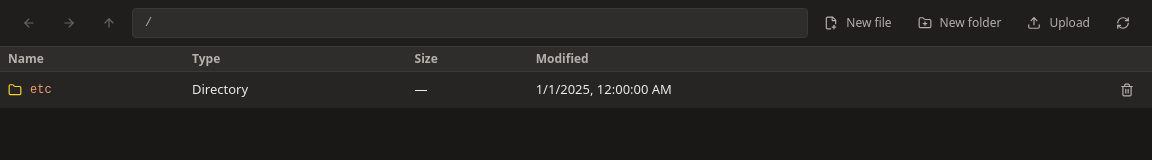
FilesTab › normalizes a path typed without a leading slash
expect the table with test id "files-table" is shown: met, box [0,47,1151,108]
Click the element with test id "files-breadcrumbs" at (470,23), box [132,8,808,38]
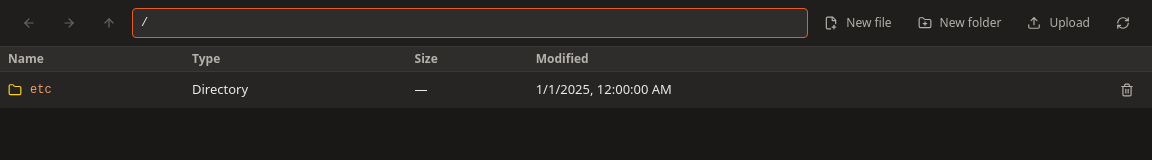
Replace the text in the field with test id "files-path-input" with "etc/nginx/" at (470,23), box [132,8,808,38]
Then press Enter
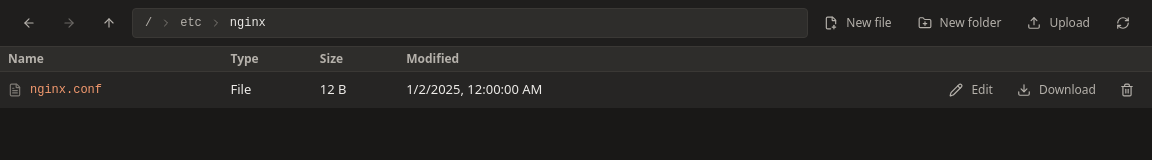
expect the button with test id "crumb-1" reads "nginx": met, box [226,15,270,31]
